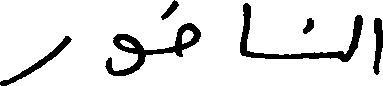X: (0, 31, 68, 85), (108, 29, 142, 80), (177, 0, 199, 61), (238, 0, 250, 61), (347, 10, 360, 66), (374, 13, 382, 79), (332, 46, 345, 66)
